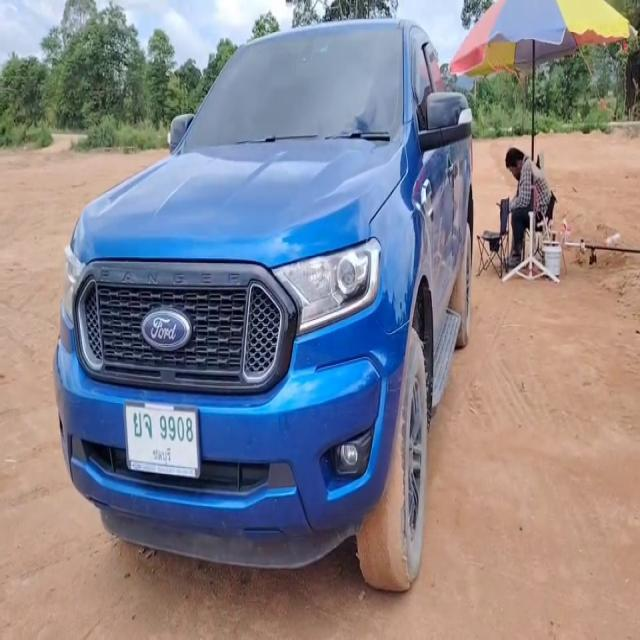Digit: (159, 414, 194, 443)
Licenseplate: (125, 403, 199, 476)
Provincename: (152, 446, 172, 465)
Thaichar: (132, 411, 153, 439)
